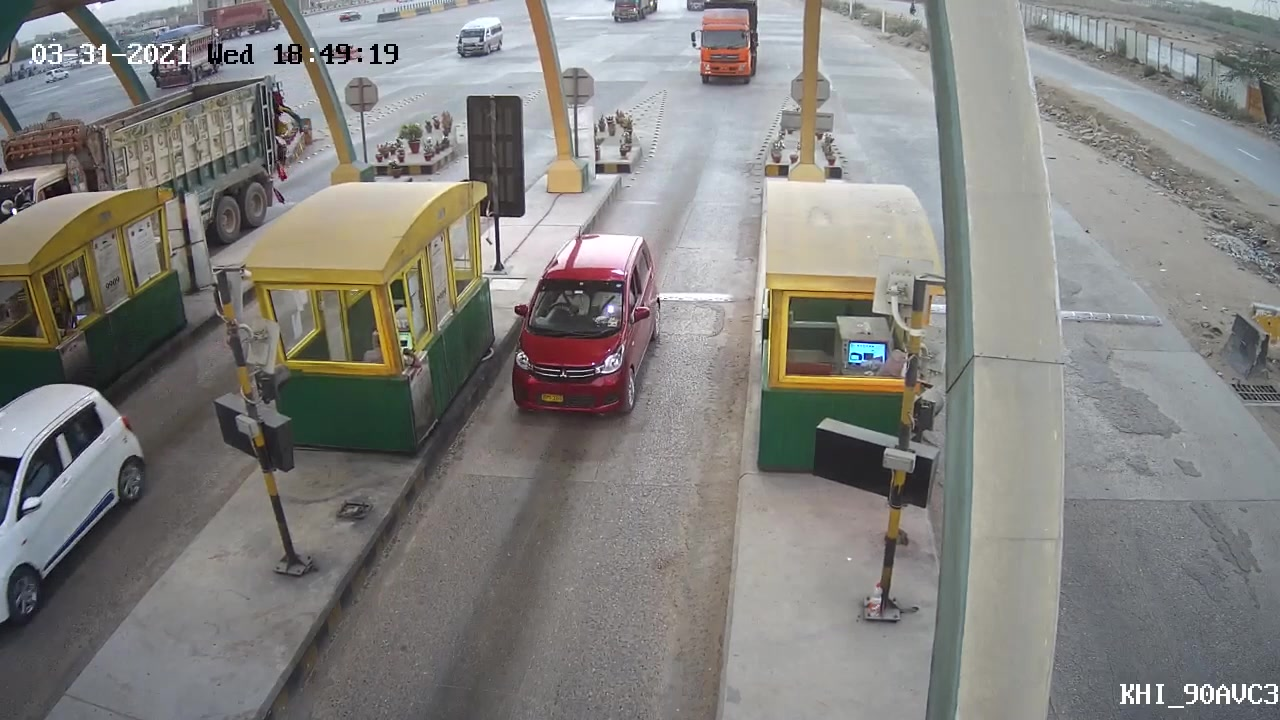F1: (496, 229, 670, 420)
